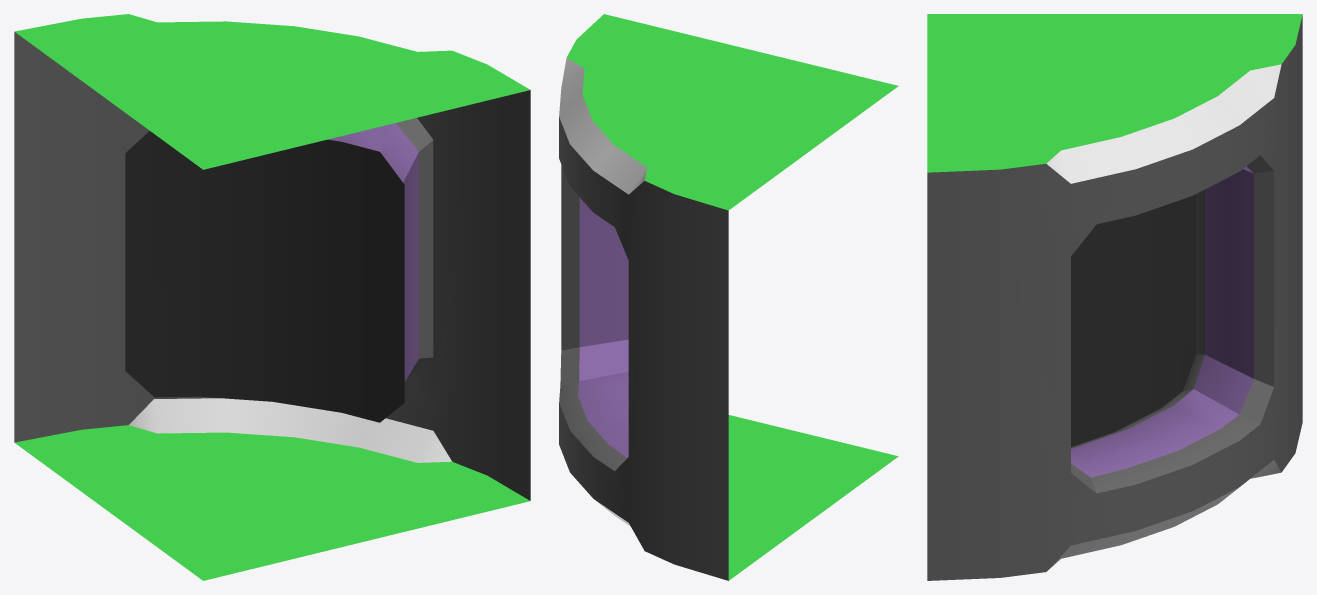
File: WallRound_Fake_2.5x2.5_Window.fbx
The picture shows the model from 3 angles, left to right: view 1: azimuth 30°, elevation 25°; view 2: azimuth 150°, elevation 25°; view 3: azimuth 270°, elevation 25°; orthographic projection. The views are drawn at different scales.
Parts seen in each view (by area): view 1: WallRound_Fake_2.5x2.5_Window; view 2: WallRound_Fake_2.5x2.5_Window; view 3: WallRound_Fake_2.5x2.5_Window.
Part boxes in pixels (box(x1,y1,x2,y2)): WallRound_Fake_2.5x2.5_Window: box(14, 14, 530, 580); WallRound_Fake_2.5x2.5_Window: box(559, 14, 898, 580); WallRound_Fake_2.5x2.5_Window: box(927, 14, 1302, 580).
Bounding box in the file's own units: 250 × 300 × 250.
